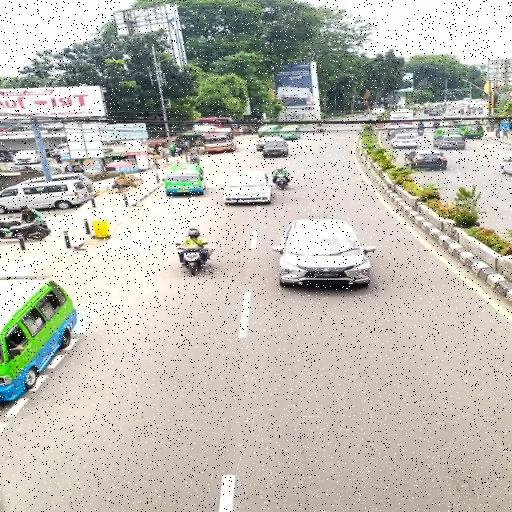Helmet: (188, 228, 200, 237), (275, 165, 283, 171), (20, 206, 29, 211)
Motor: (176, 243, 203, 275), (0, 222, 49, 239), (275, 176, 289, 190), (0, 151, 13, 163), (188, 153, 200, 163), (417, 127, 425, 136), (316, 124, 323, 132), (433, 121, 439, 129), (364, 111, 368, 116)
